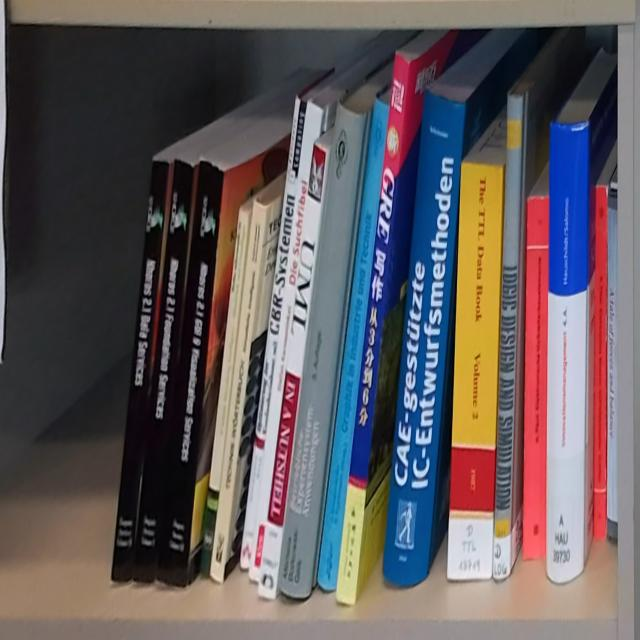Book Spine: (278, 102, 369, 598), (335, 50, 410, 606), (383, 88, 464, 588), (248, 100, 325, 584), (317, 98, 390, 591), (239, 94, 308, 569), (155, 159, 224, 593), (259, 148, 325, 598), (132, 161, 195, 584), (110, 162, 170, 583), (447, 162, 505, 581), (210, 198, 269, 584), (546, 121, 589, 586), (198, 205, 251, 574), (493, 95, 525, 583), (523, 196, 549, 564), (595, 185, 607, 540), (606, 193, 618, 546)
